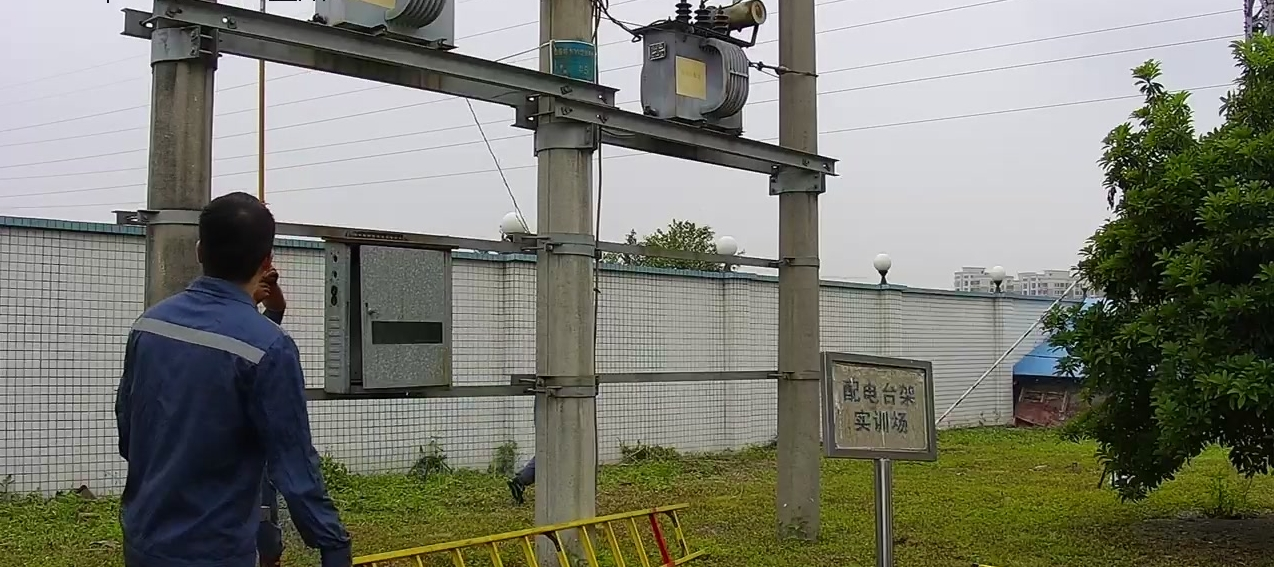未带安全帽的工作人员: (111, 191, 353, 566)
